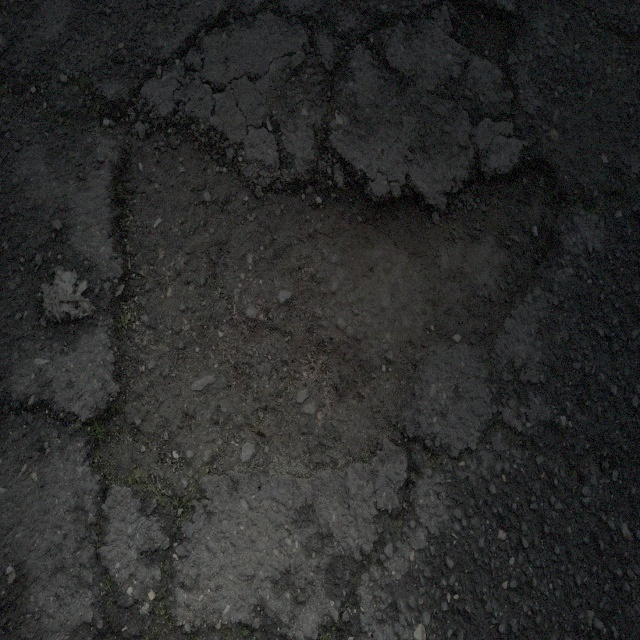pothole: (84, 86, 571, 524)
